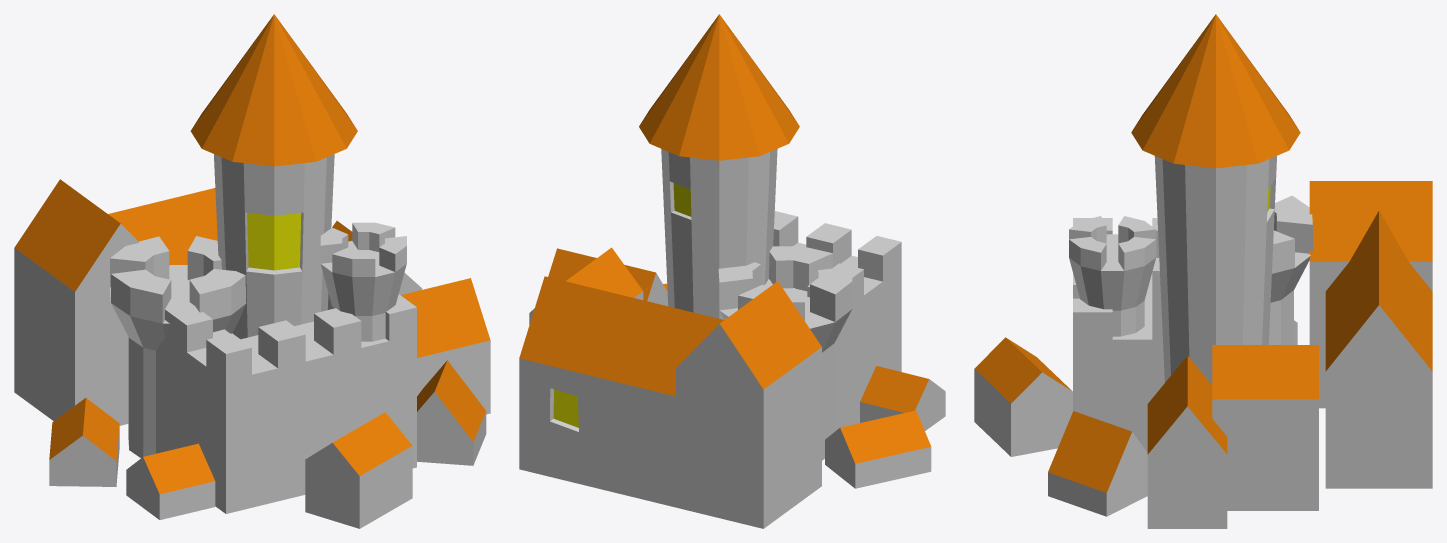
The model's file is town.fbx.
3 views of the same model, side by side, from view 1: azimuth 30°, elevation 25°; view 2: azimuth 150°, elevation 25°; view 3: azimuth 270°, elevation 25° (orthographic). The views are drawn at different scales.
Visible parts, largest first — view 1: town; view 2: town; view 3: town.
Boxes of the visible parts, x1,y1,x2,y2 form: town: (14, 14, 490, 528); town: (519, 14, 945, 528); town: (974, 14, 1432, 528).
Bounding box in the file's own units: 5.62 × 5.55 × 5.43.
